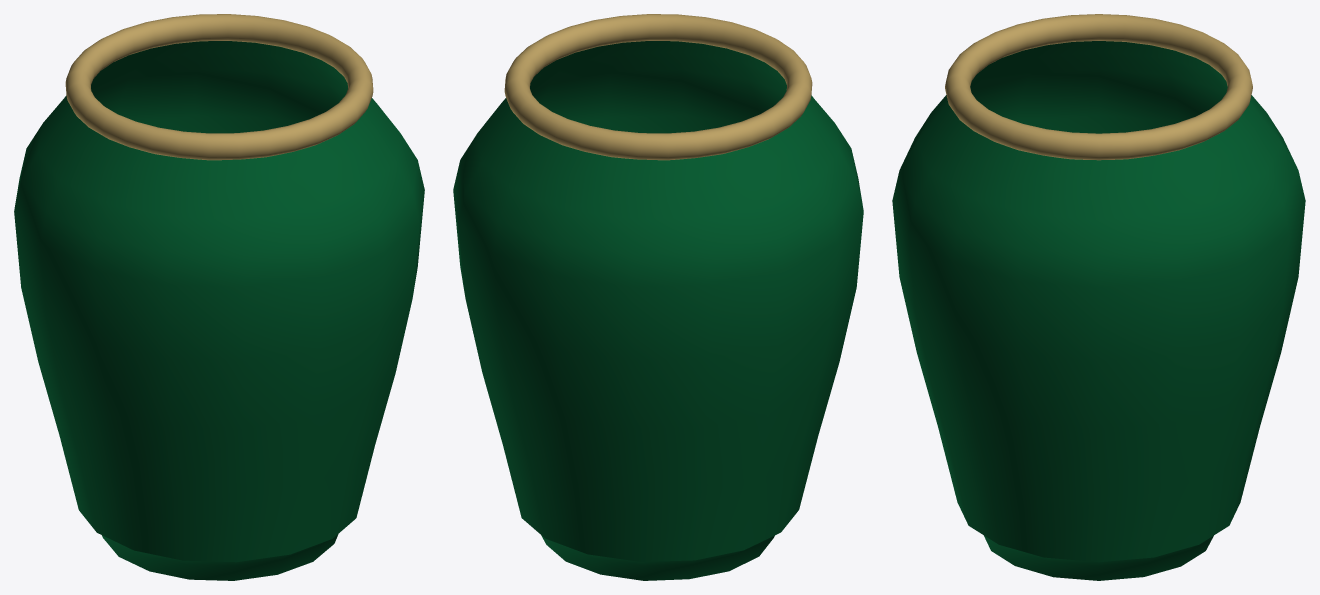
The picture shows the model from 3 angles, left to right: view 1: azimuth 30°, elevation 25°; view 2: azimuth 150°, elevation 25°; view 3: azimuth 270°, elevation 25°; orthographic projection.
Parts seen in each view (by area): view 1: 2541002; view 2: 2541002; view 3: 2541002.
Boxes of the visible parts, x1,y1,x2,y2 form: 2541002: (14,14,424,580); 2541002: (453,14,863,580); 2541002: (892,14,1305,580).
Bounding box in the file's own units: 100 × 122 × 100.
